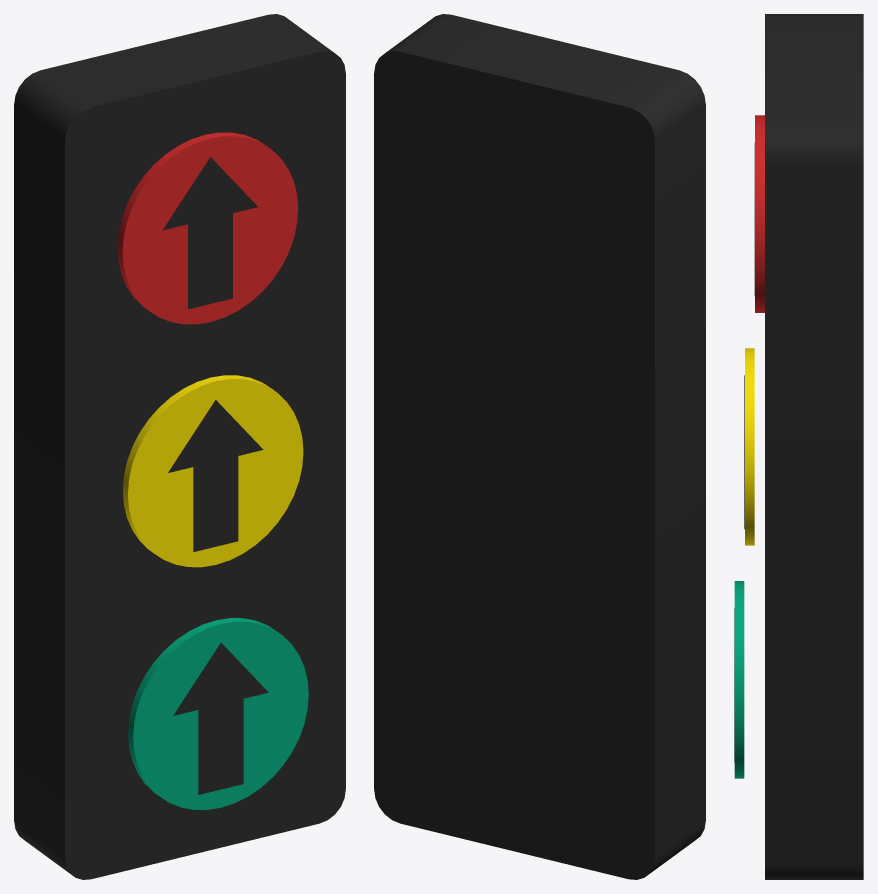
The picture shows the model from 3 angles, left to right: view 1: azimuth 30°, elevation 25°; view 2: azimuth 150°, elevation 25°; view 3: azimuth 270°, elevation 25°; orthographic projection. The views are drawn at different scales.
Parts seen in each view (by area): view 1: R14d_r00, R14d_d276, R14d_d302, R14d_d250, R14d_s301, R14d_s327, R14d_s275; view 2: R14d_r00; view 3: R14d_r00, R14d_d302, R14d_d250, R14d_d276.
Part boxes in pixels (x1,y1,x2,y2): R14d_r00: [14, 14, 345, 879]; R14d_d276: [123, 375, 303, 567]; R14d_d302: [128, 618, 308, 809]; R14d_d250: [117, 132, 298, 324]; R14d_s301: [168, 400, 263, 552]; R14d_s327: [173, 643, 268, 794]; R14d_s275: [163, 157, 257, 309]; R14d_r00: [374, 14, 705, 879]; R14d_r00: [765, 14, 863, 879]; R14d_d302: [734, 581, 744, 778]; R14d_d250: [755, 115, 764, 312]; R14d_d276: [745, 348, 754, 545].
Size of the model in its own units: 0.32 by 0.84 by 0.1312.
